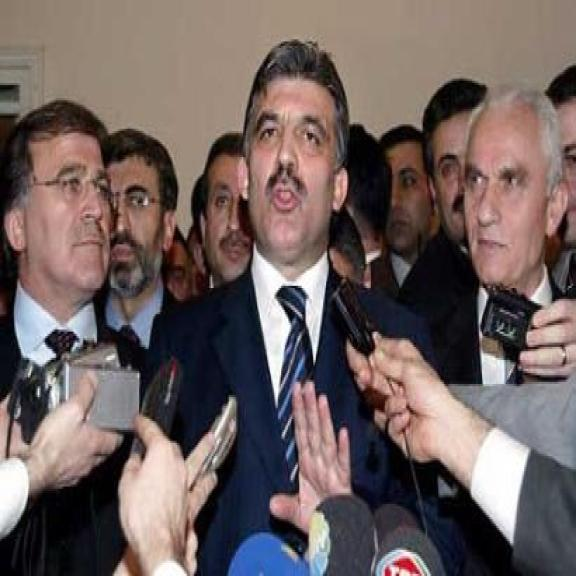face: (459, 99, 571, 291), (3, 120, 110, 317), (241, 72, 350, 253), (106, 148, 177, 294), (198, 138, 252, 281), (426, 99, 476, 247), (384, 138, 432, 255)
